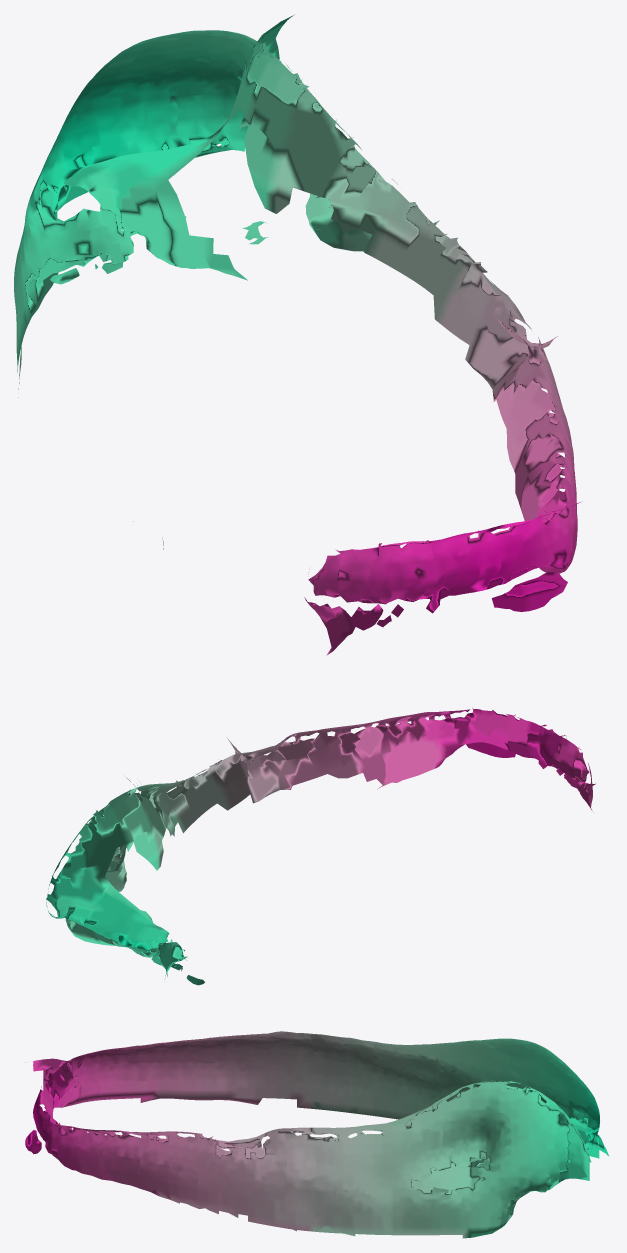
File: seat_only_top.glb
3 renders of one model, top to bottom at view 1: azimuth 30°, elevation 25°; view 2: azimuth 150°, elevation 25°; view 3: azimuth 270°, elevation 25°, orthographic. The views are drawn at different scales.
Size of the model in its own units: 0.7899 by 0.4243 by 1.53.
